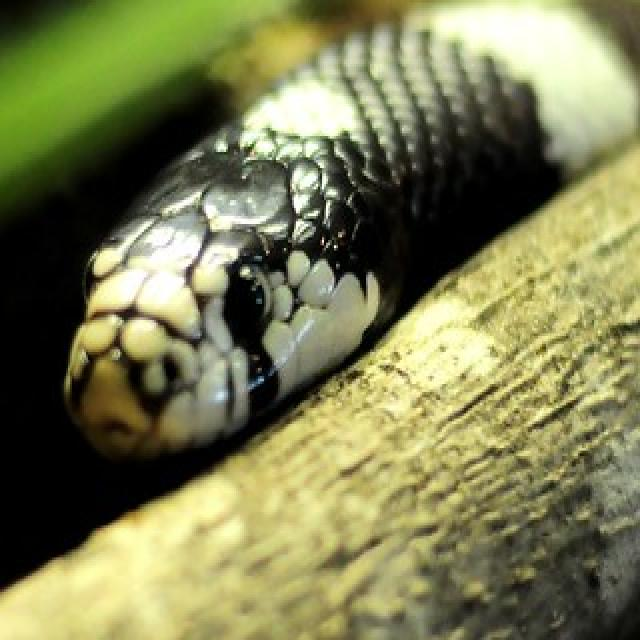Snake: (58, 0, 640, 464)
